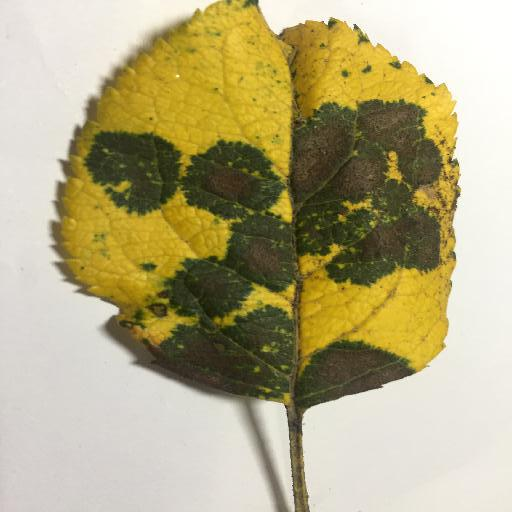Brown_Spot: (289, 102, 440, 277), (289, 341, 409, 398), (179, 331, 261, 381), (208, 157, 257, 201), (230, 237, 280, 275)
